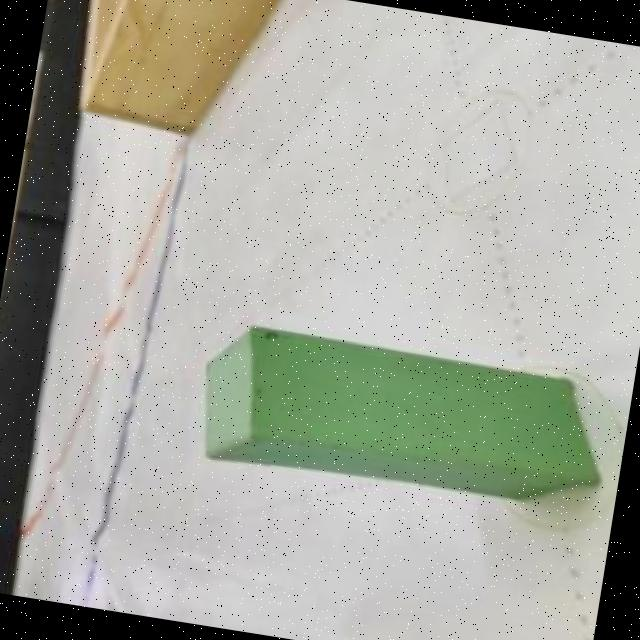greenbox: (187, 314, 617, 520)
